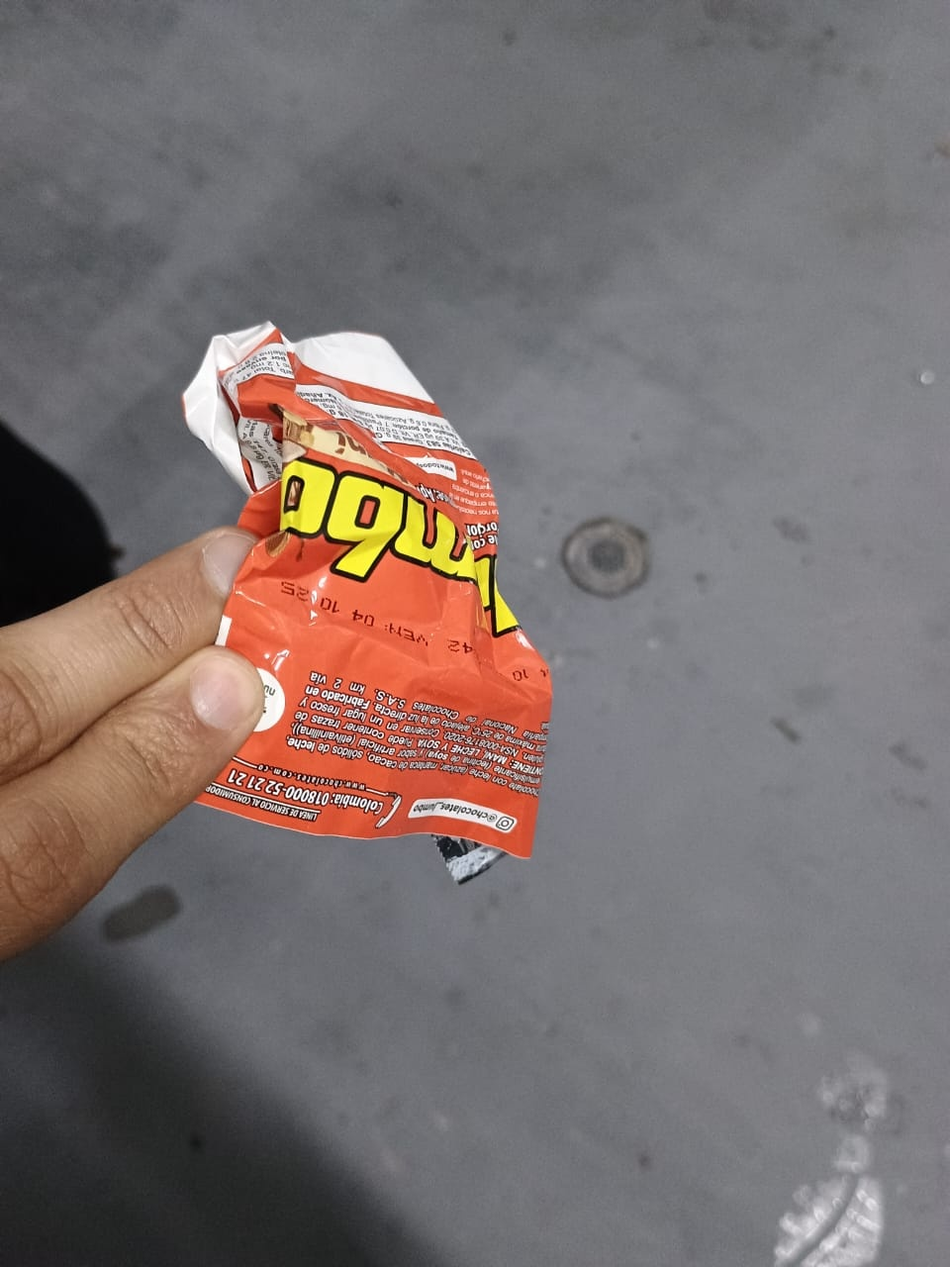Ordinario: (177, 320, 553, 885)
